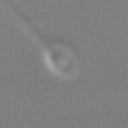normal: (1, 1, 51, 49)
